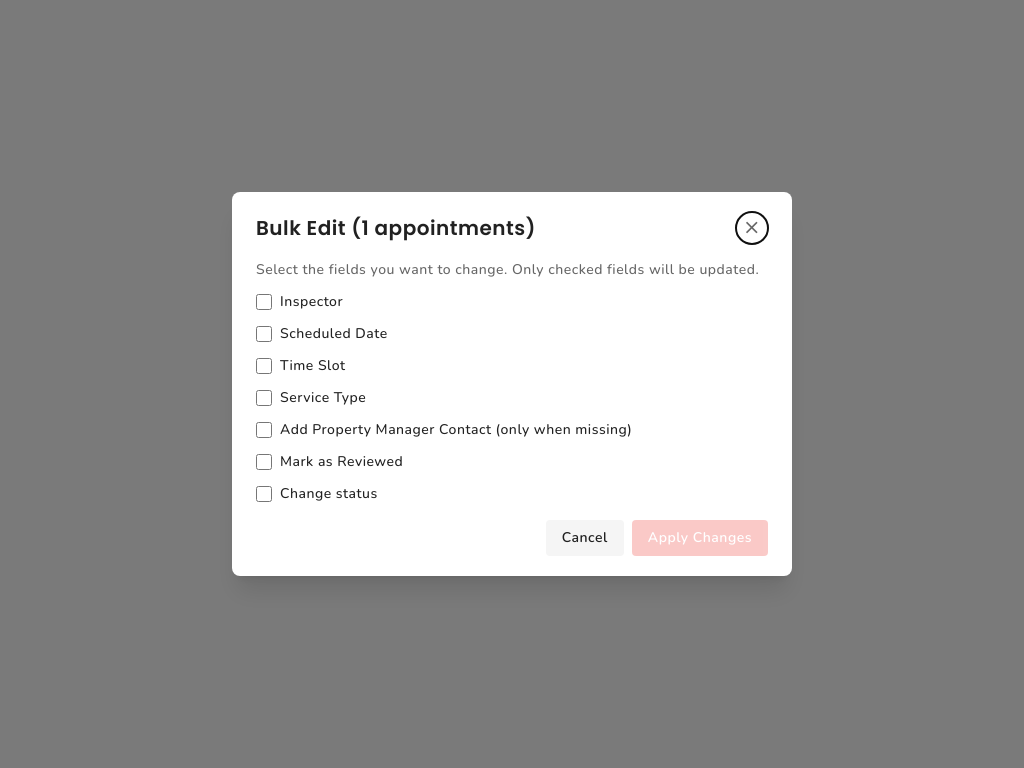
Test: BulkEditModal › rejects a past scheduled date at submit instead of sending it
This screenshot has width=1024, height=768.
Click the checkbox labelled "Scheduled Date" at (264, 334), box [256,326,272,342]
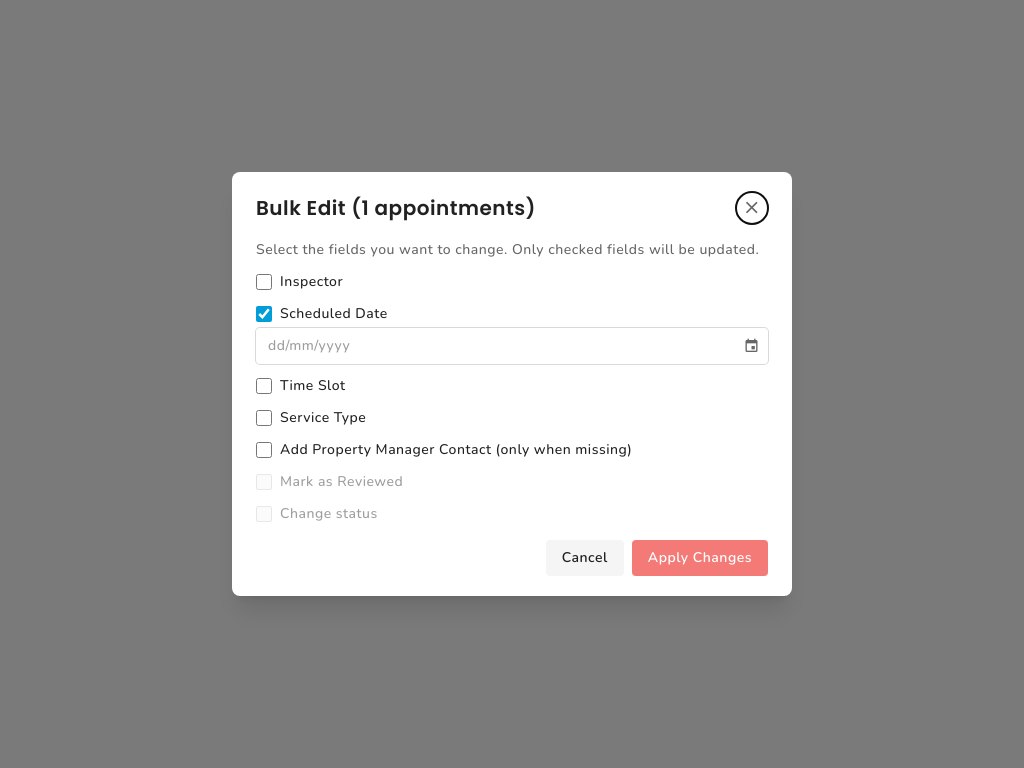
Type "2020-01-15" into the field named "Set scheduled date" at (498, 346), box [256,328,740,364]
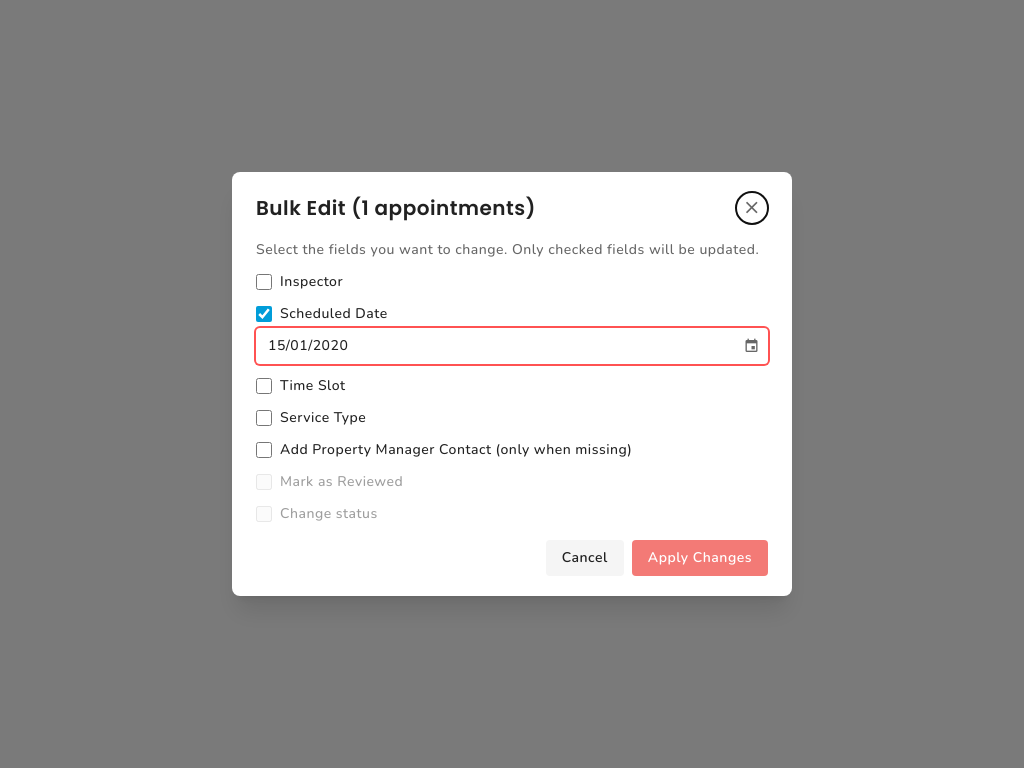
Click the button "Apply Changes" at (700, 558), box [632,540,768,576]
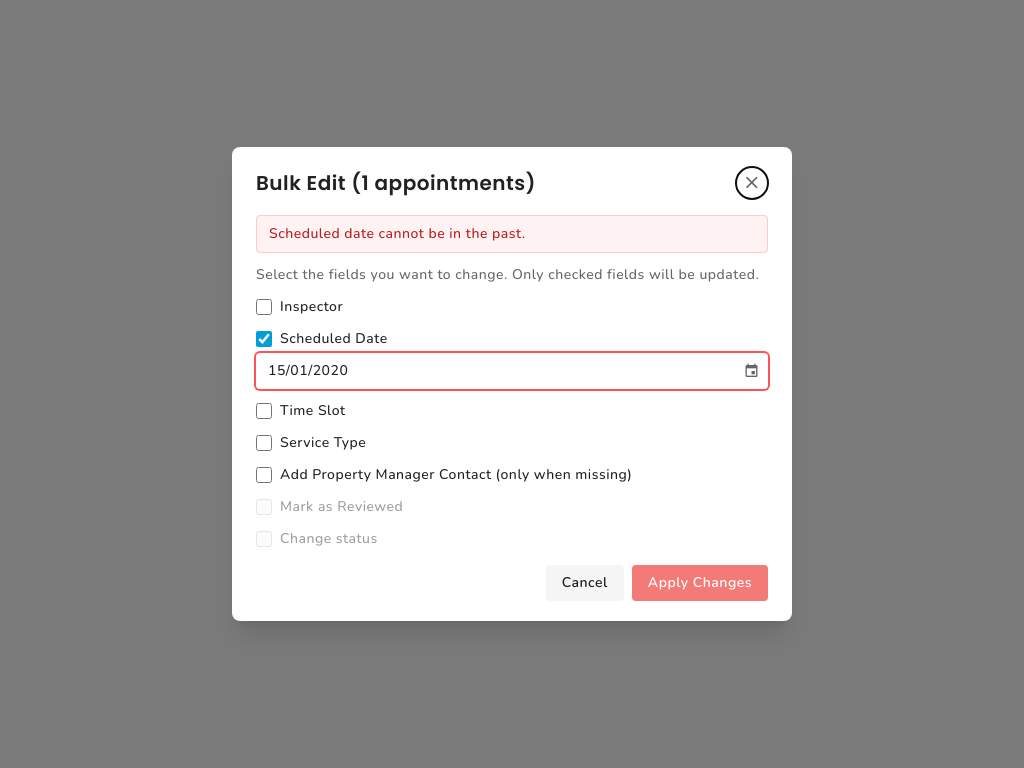
Check: the text "Scheduled date cannot be in the past." is shown, box [256,215,768,253]
